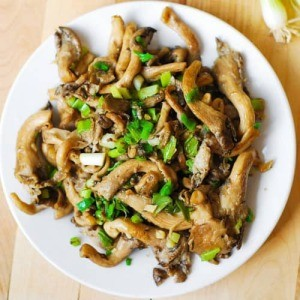mushroom_brain food: (36, 88, 228, 234)
